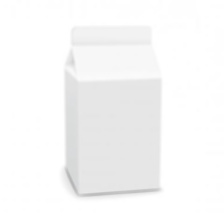carton: (58, 21, 164, 199)
